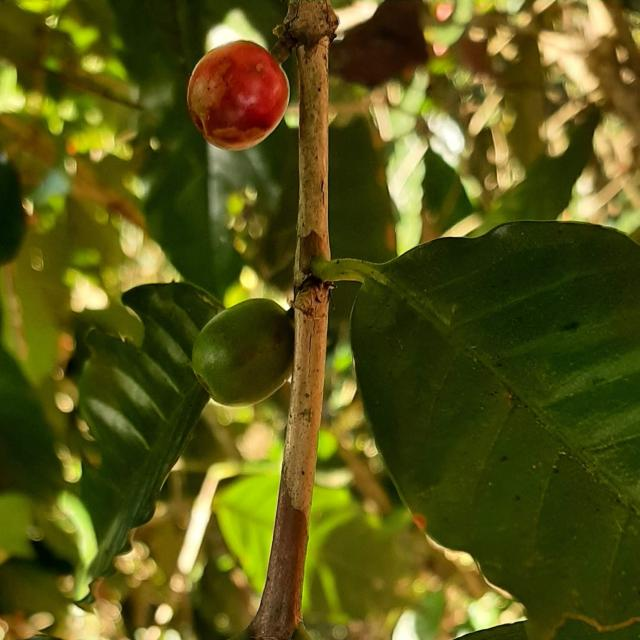green: (192, 298, 294, 406)
red: (187, 40, 289, 150)
